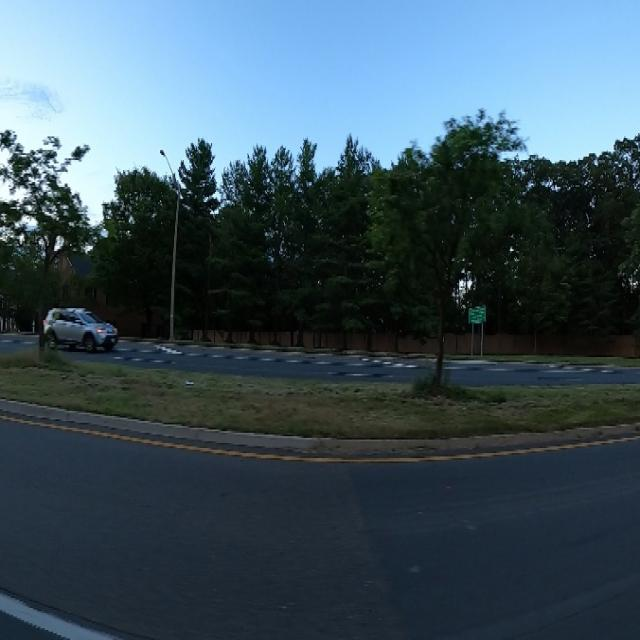cars: (40, 290, 123, 360)
